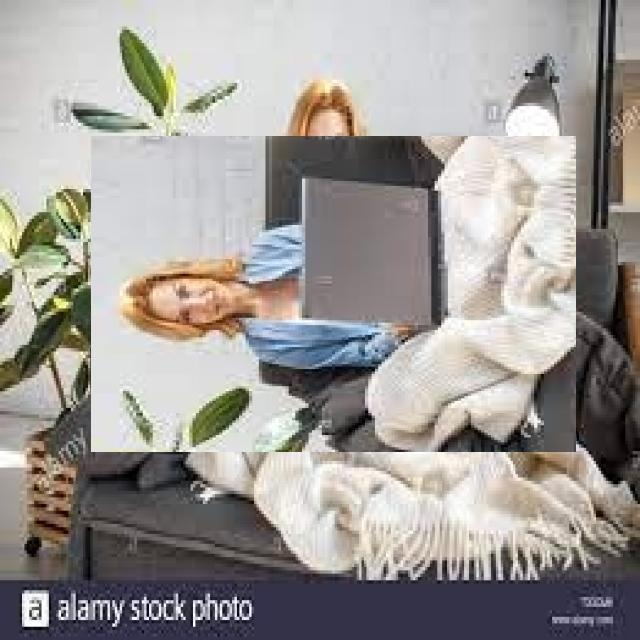NotFall: (100, 140, 569, 438)
